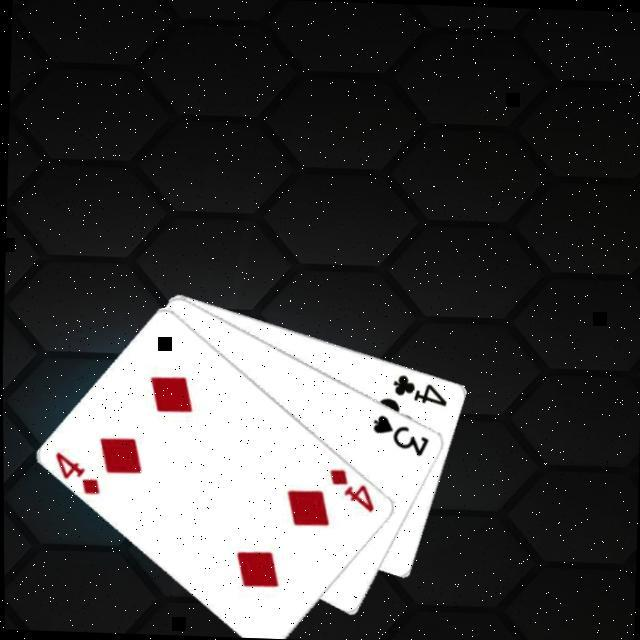3S: (368, 412, 432, 460)
4C: (390, 372, 451, 409)
4D: (325, 466, 379, 516), (51, 448, 105, 498)
